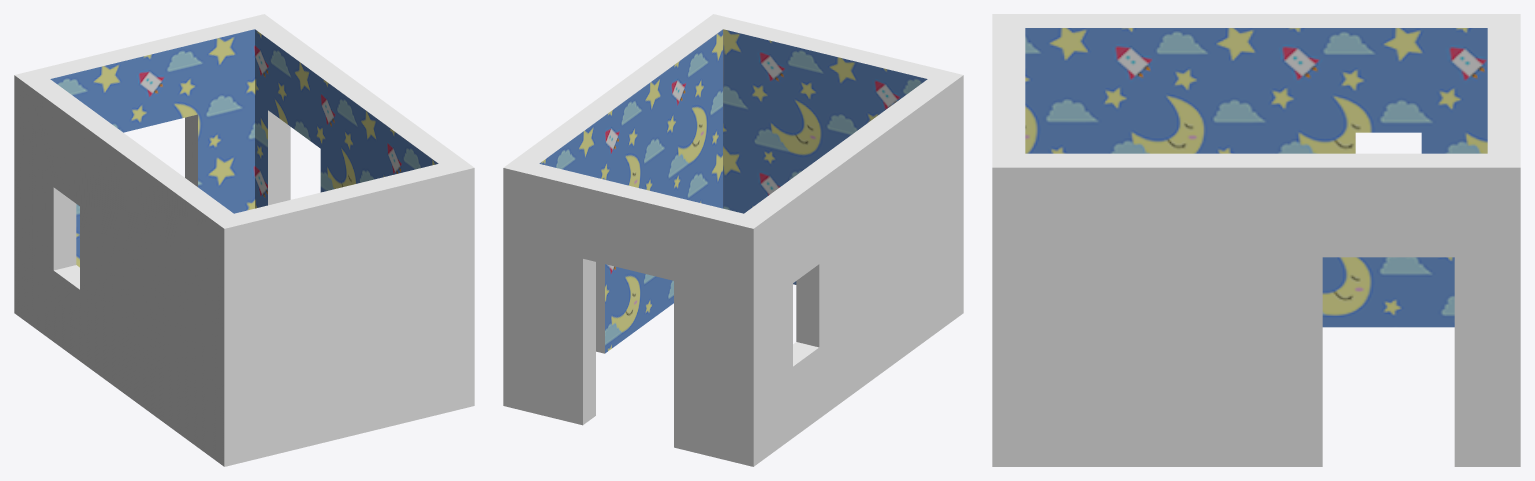
The model's file is Walls.fbx.
The picture shows the model from 3 angles, left to right: view 1: azimuth 30°, elevation 25°; view 2: azimuth 150°, elevation 25°; view 3: azimuth 270°, elevation 25°; orthographic projection. The views are drawn at different scales.
Parts seen in each view (by area): view 1: pCube11; view 2: pCube11; view 3: pCube11.
Boxes of the visible parts, bbox=[...] form: pCube11: bbox=[14, 14, 474, 466]; pCube11: bbox=[503, 14, 963, 466]; pCube11: bbox=[992, 14, 1520, 466].
Bounding box in the file's own units: 11 × 10 × 16.
Materials: 1 (1 with a texture image).
